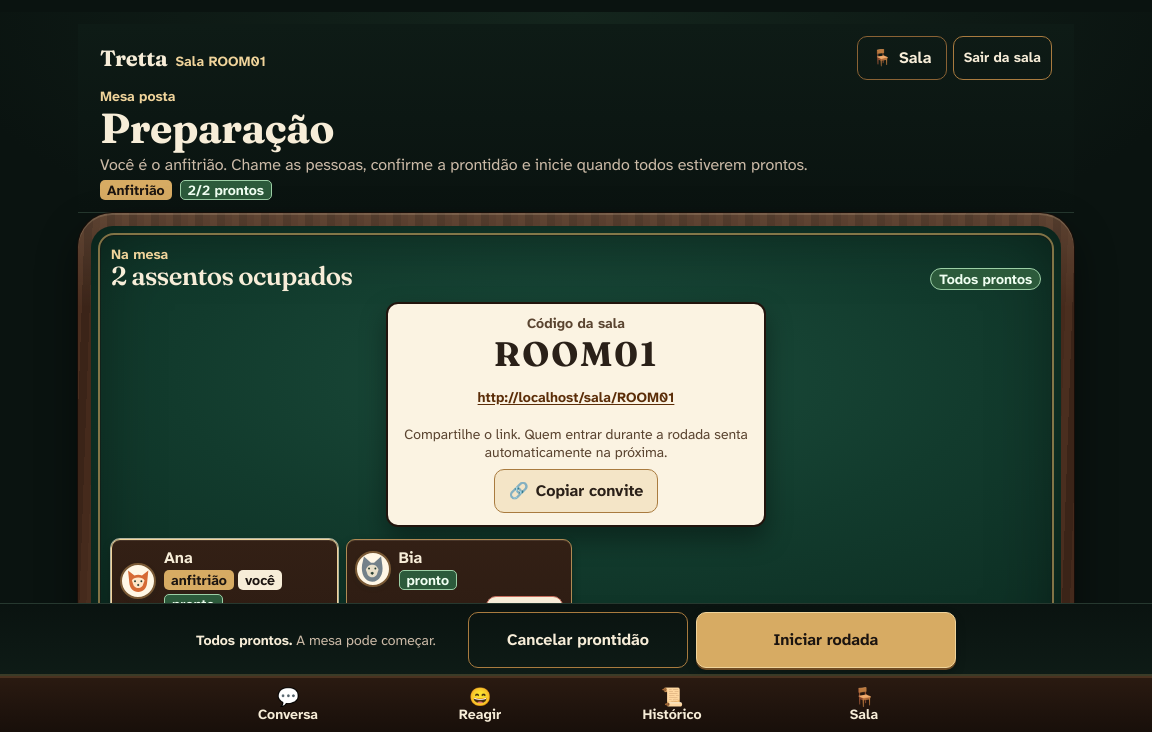
preparação › libera o início quando todos os assentos contam prontos e preserva o placar histórico
Click the button with test id "start-round-button": point(826, 640) [696, 612, 956, 668]
(page scrolled)
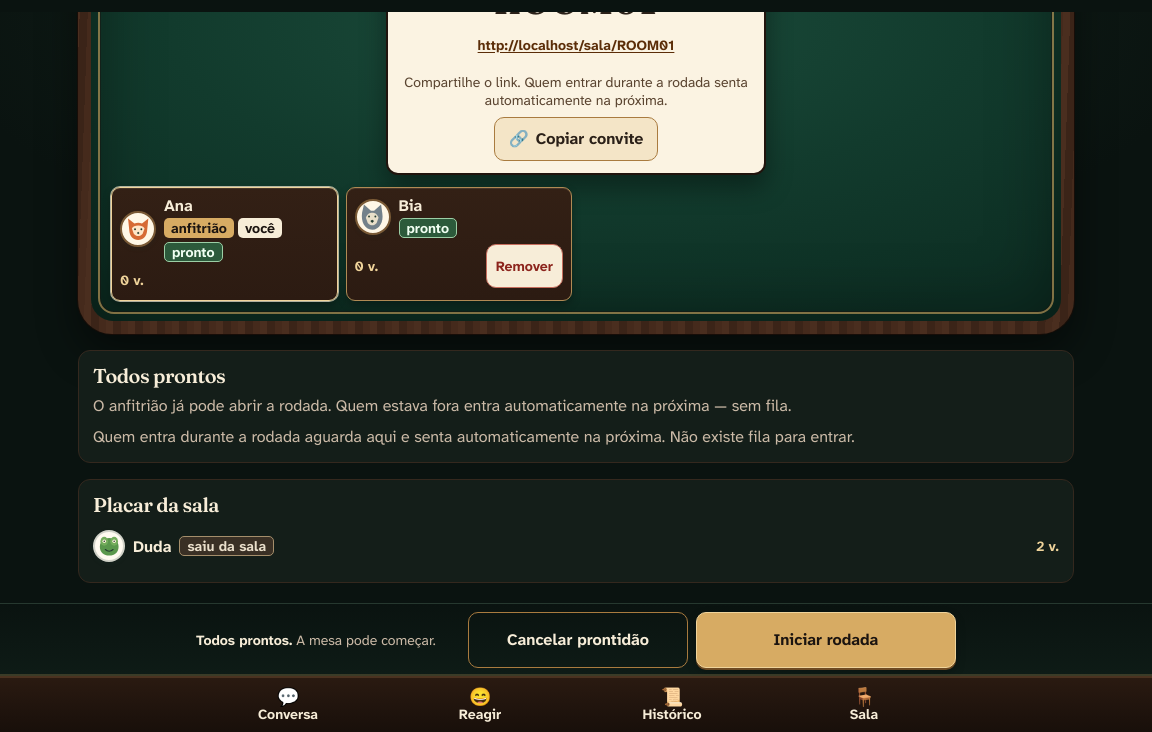
expect the list item with test id "history-Duda" shows "2 v.": met, box [93, 524, 1059, 568]
